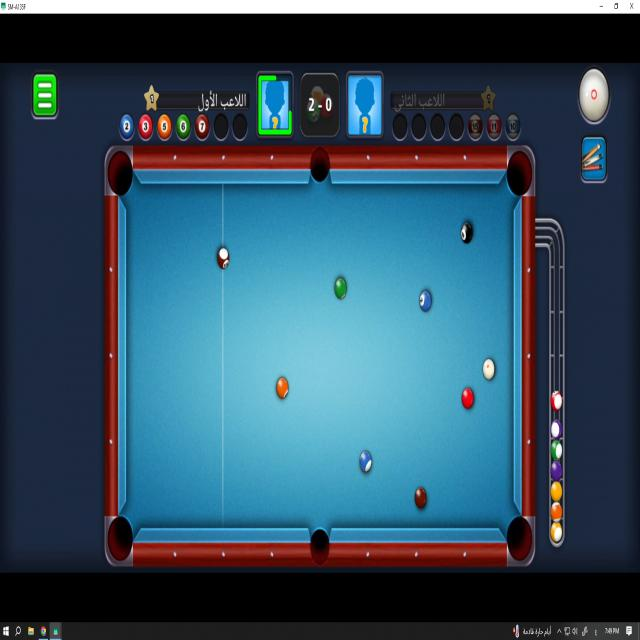object_ball: (360, 451, 371, 472), (415, 487, 426, 508), (277, 377, 288, 398), (335, 278, 346, 299), (420, 291, 431, 311), (462, 388, 473, 408), (461, 223, 472, 243), (218, 248, 228, 269)
white_cue_ball: (483, 359, 494, 379)
